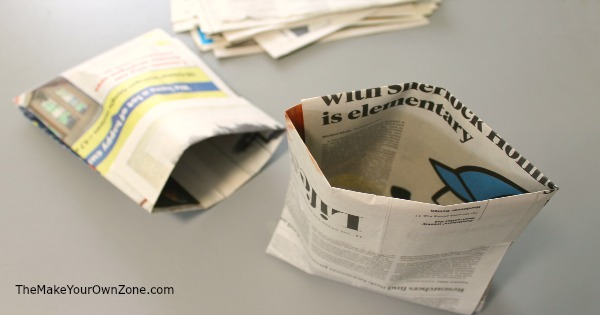news_paper: (257, 57, 568, 315), (8, 23, 296, 280), (138, 1, 525, 111)
